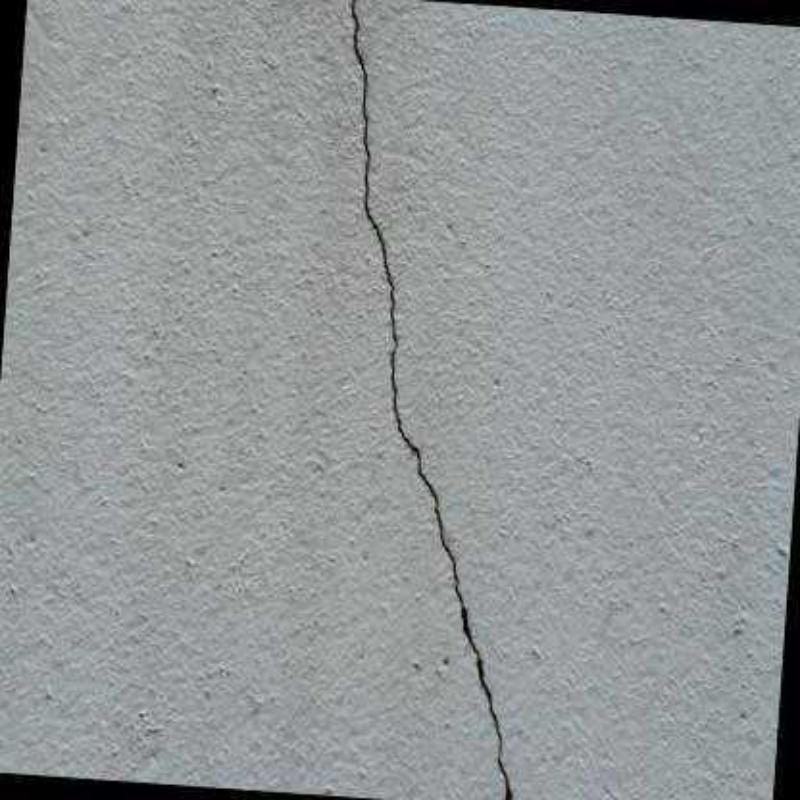pothole: (349, 0, 516, 800)
